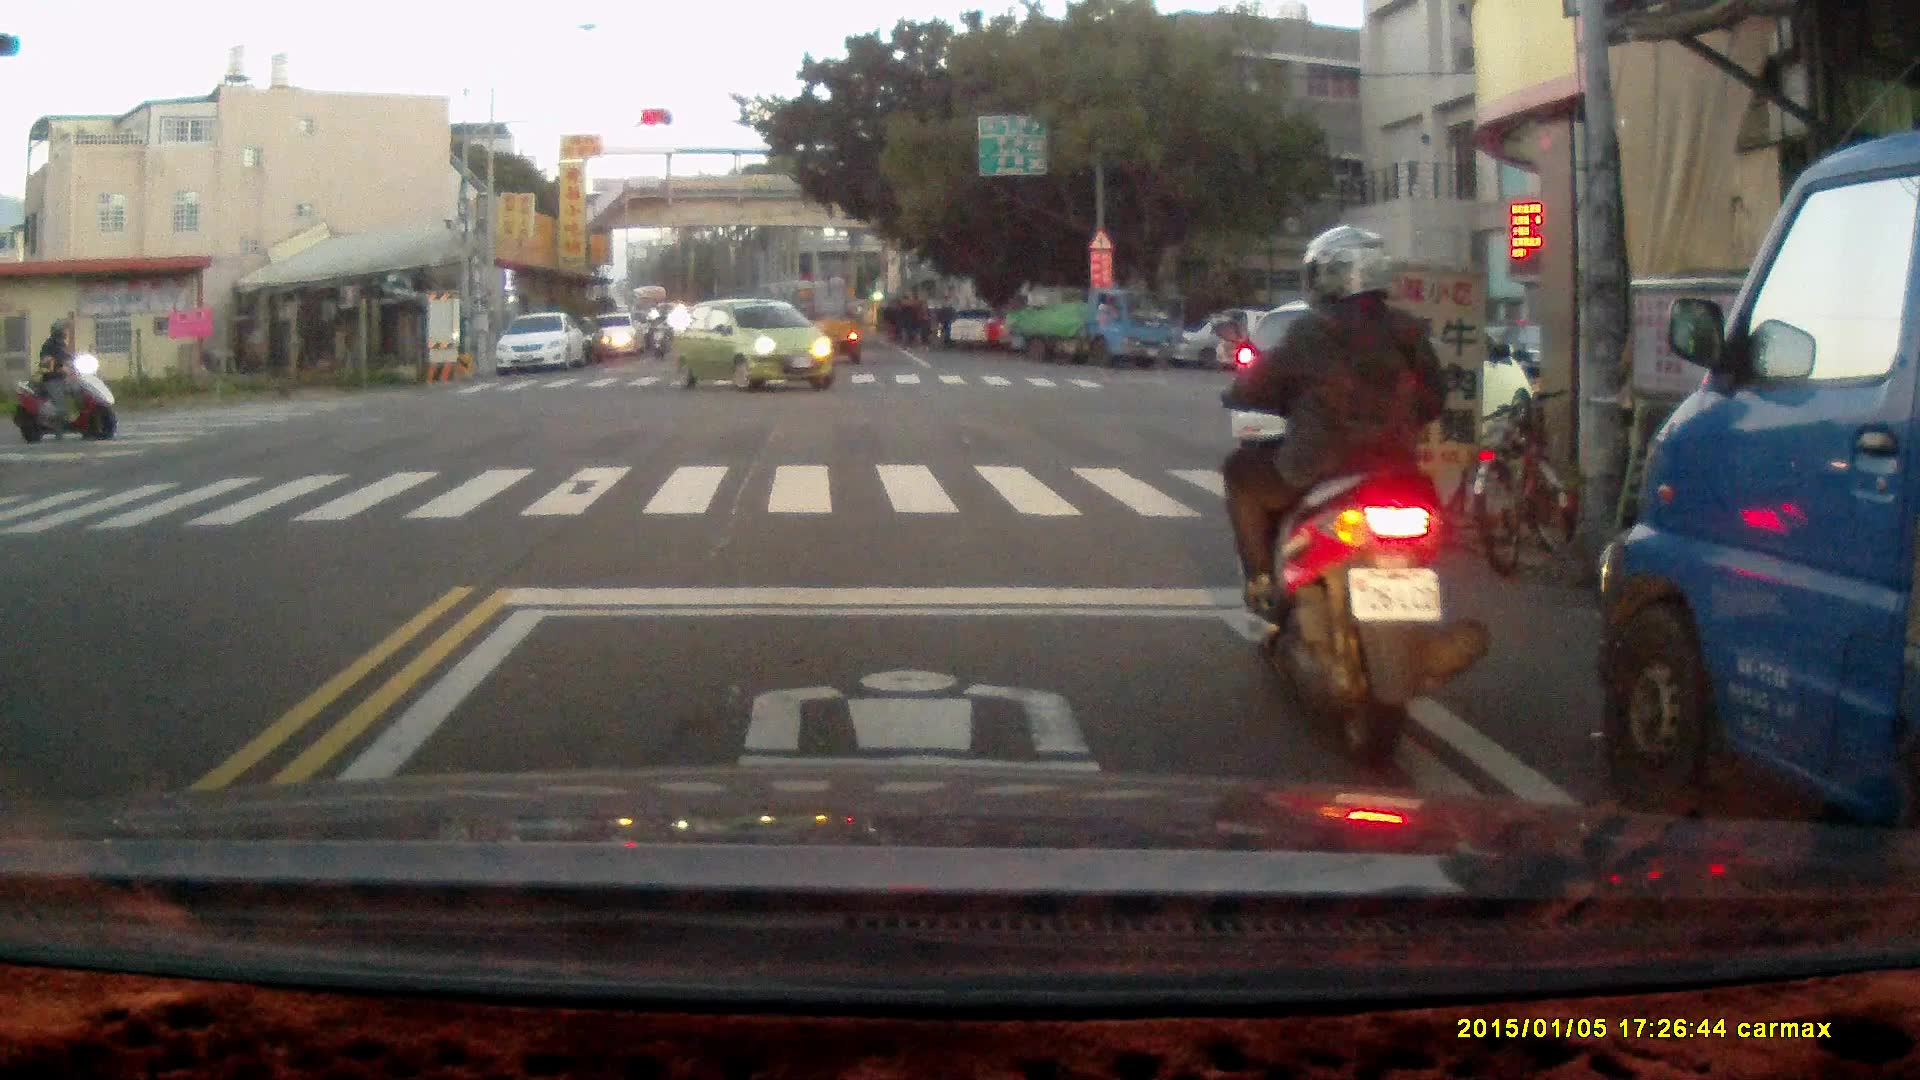rider: (1210, 221, 1493, 764), (10, 317, 119, 440), (647, 308, 672, 361)
vehicle: (1600, 132, 1920, 921), (1217, 294, 1527, 464), (676, 295, 832, 397), (1002, 284, 1176, 367), (784, 275, 866, 372), (496, 313, 587, 377), (592, 311, 642, 360)
